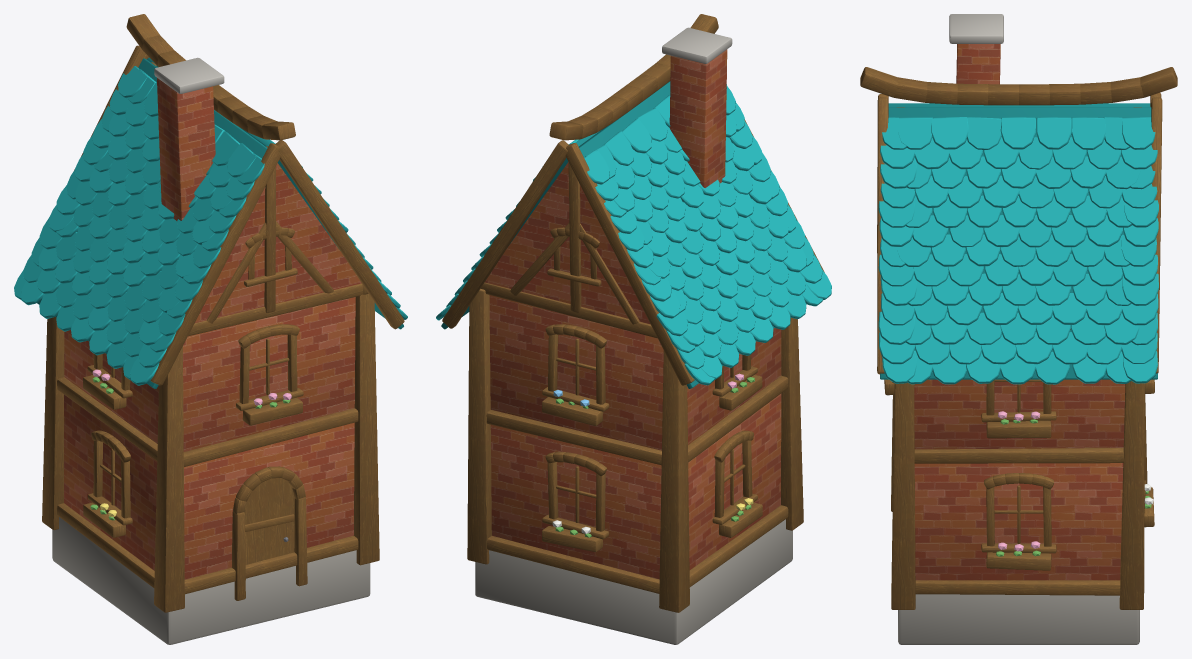
File: tall_teal.gltf
3 views of the same model, side by side, from view 1: azimuth 30°, elevation 25°; view 2: azimuth 150°, elevation 25°; view 3: azimuth 270°, elevation 25° (orthographic). The views are drawn at different scales.
Parts seen in each view (by area): view 1: tall_teal; view 2: tall_teal; view 3: tall_teal.
Boxes of the visible parts, bbox=[...] form: tall_teal: bbox=[14, 14, 407, 644]; tall_teal: bbox=[436, 14, 831, 644]; tall_teal: bbox=[860, 14, 1177, 644].
Size of the model in its own units: 5.37 by 10.02 by 5.24.
13 materials, 2 textured.
